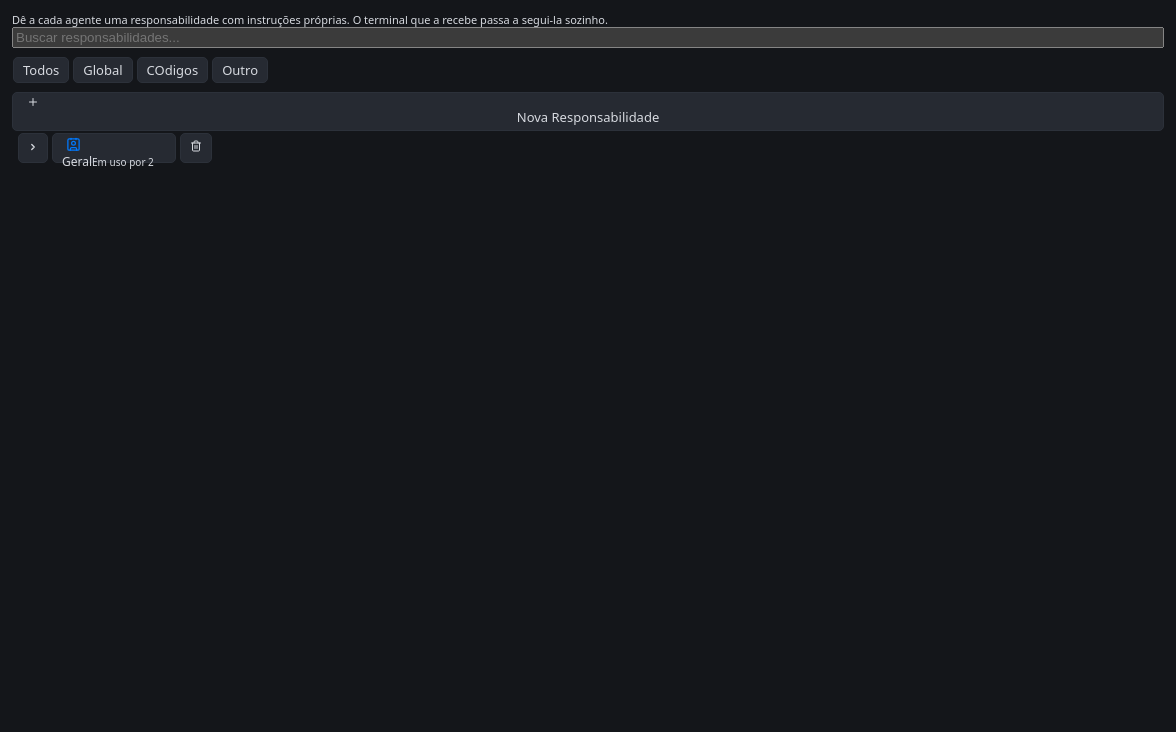
Scenario: linha: abre a descrição, edita pelo lápis e pelo duplo clique, mostra o uso
Expected: the element with class "library-row" shows "Em uso por 2", [52,132,176,162]
Expected: the text "Instruções de Geral" is not shown
Click the button with class "library-expand" at (33, 148), box [18,132,48,162]
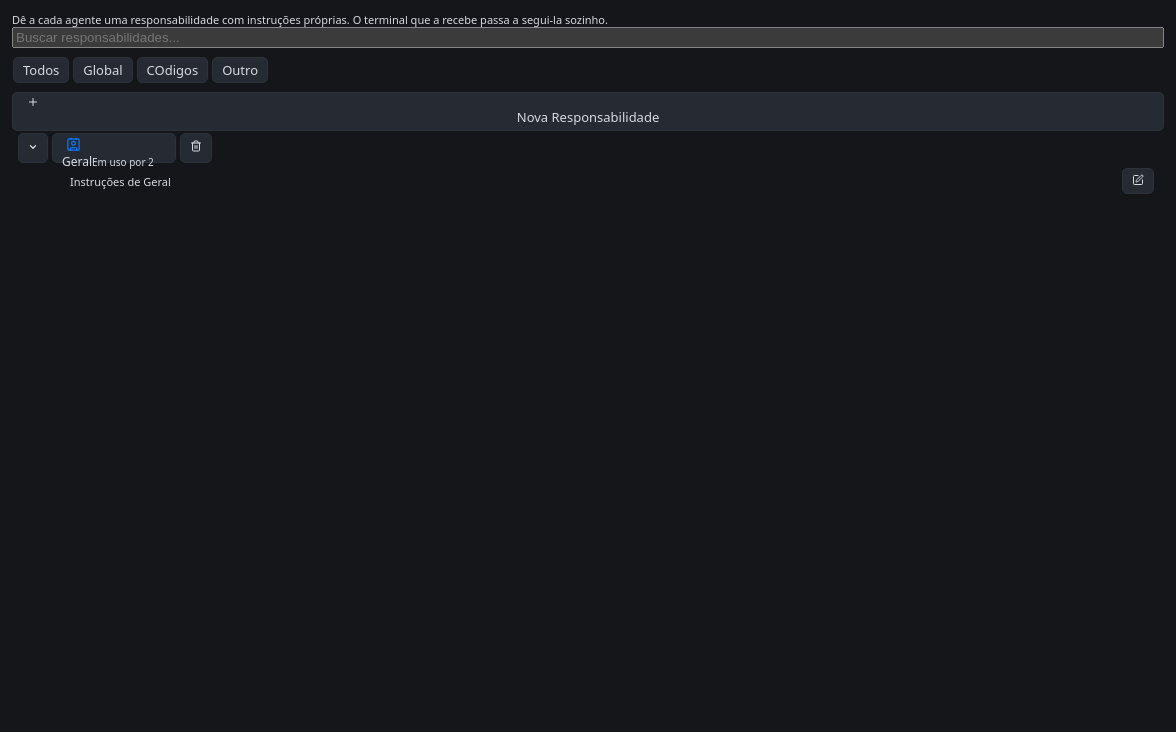
Result: the text "Instruções de Geral" is shown at [70,174,171,188]
Click the button named "Editar Geral" at (1138, 181), box [1122,168,1154,194]
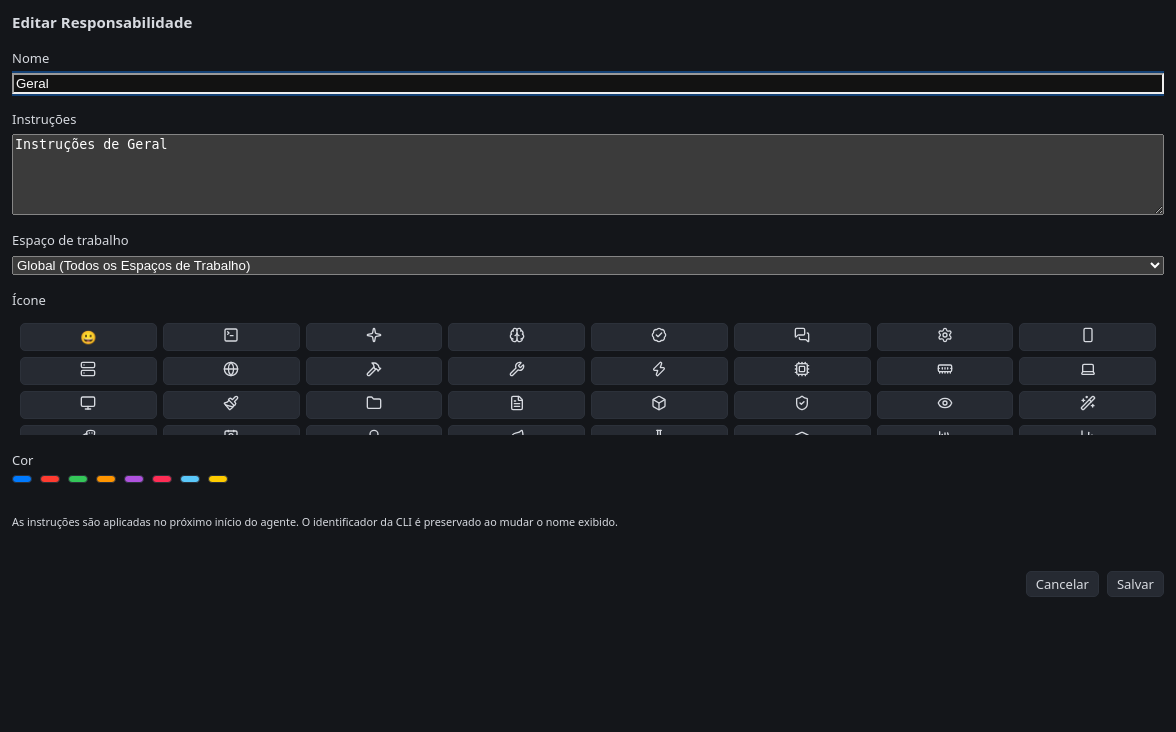
Result: the text box labelled "Instruções" holds "Instruções de Geral" at [12,134,1164,215]
Click the button "Cancelar" at (1062, 584), box [1026,571,1099,597]
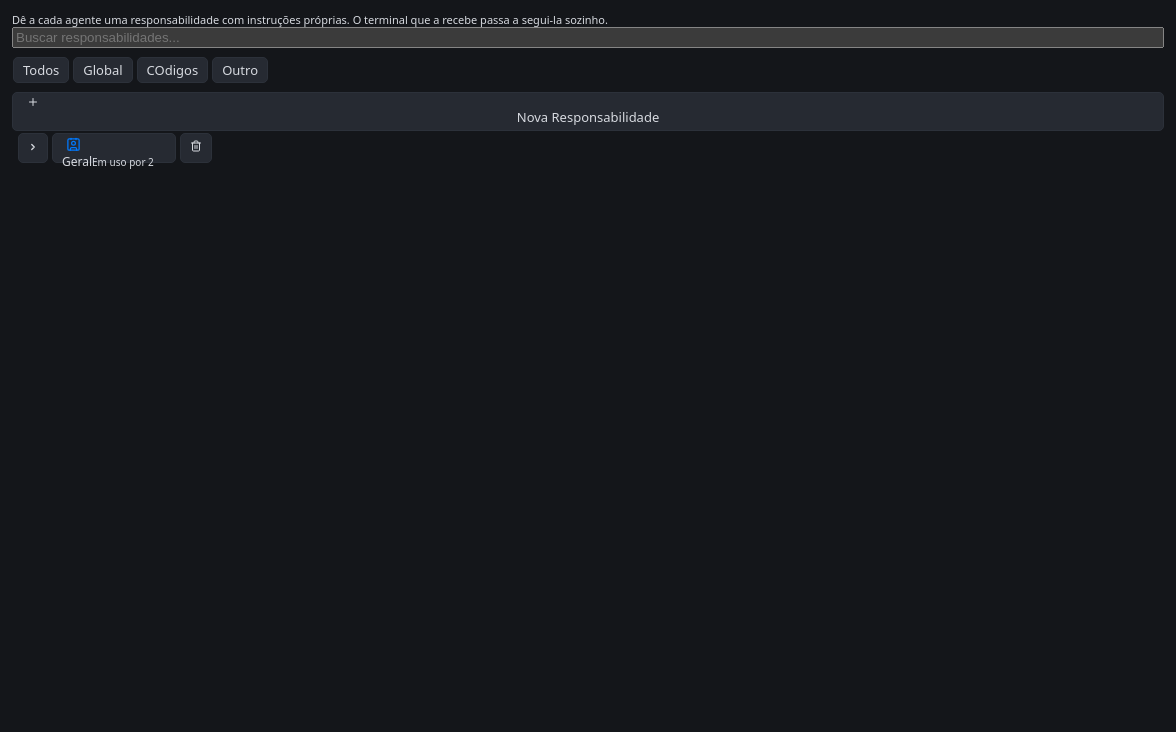
Double-click the 3rd button at (114, 148), box [52,132,176,162]
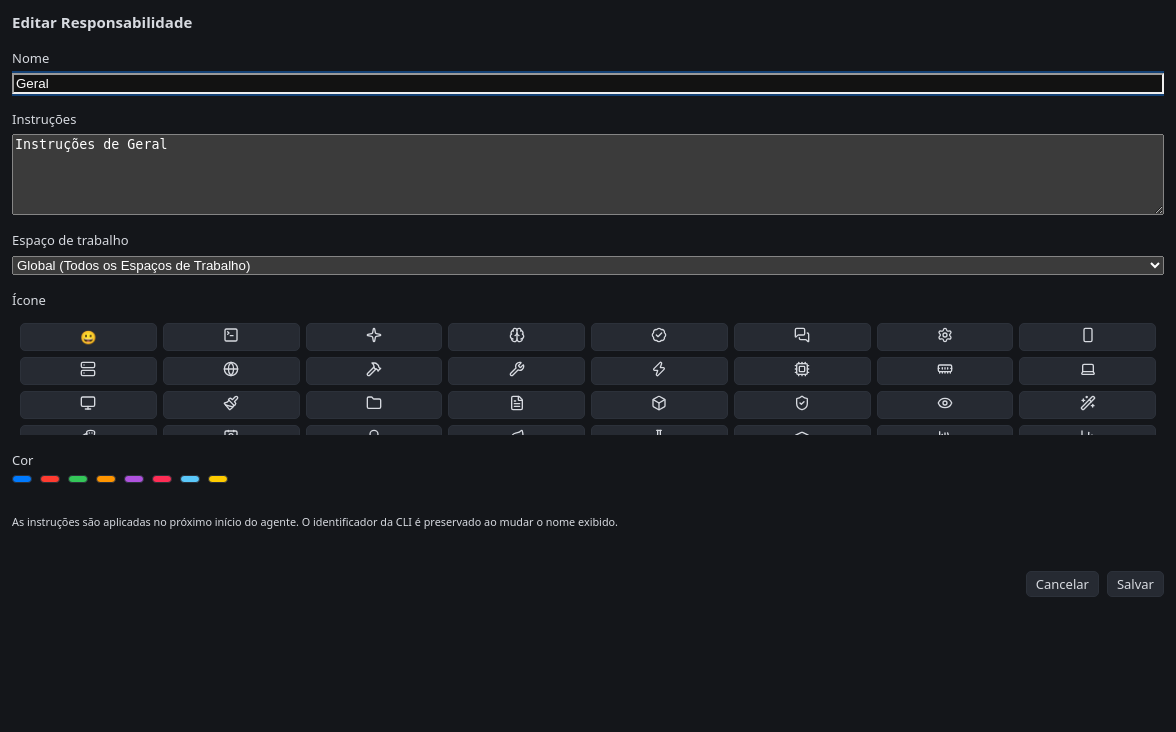
Result: the form is shown
